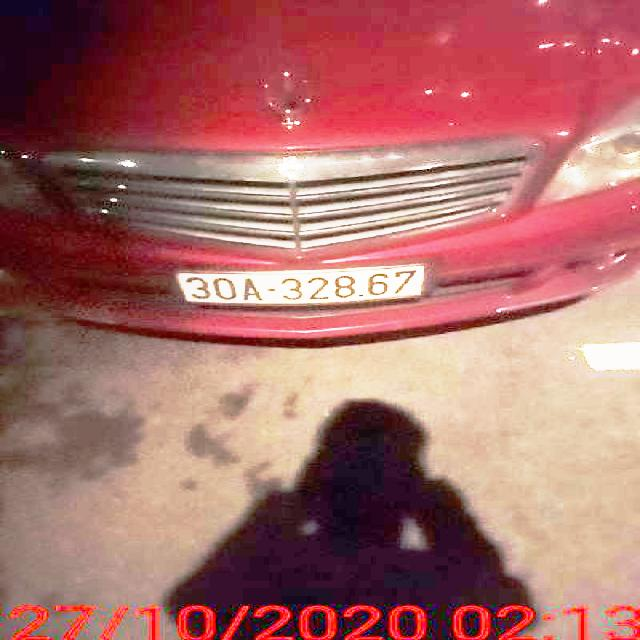license_plate: (176, 266, 426, 308)
